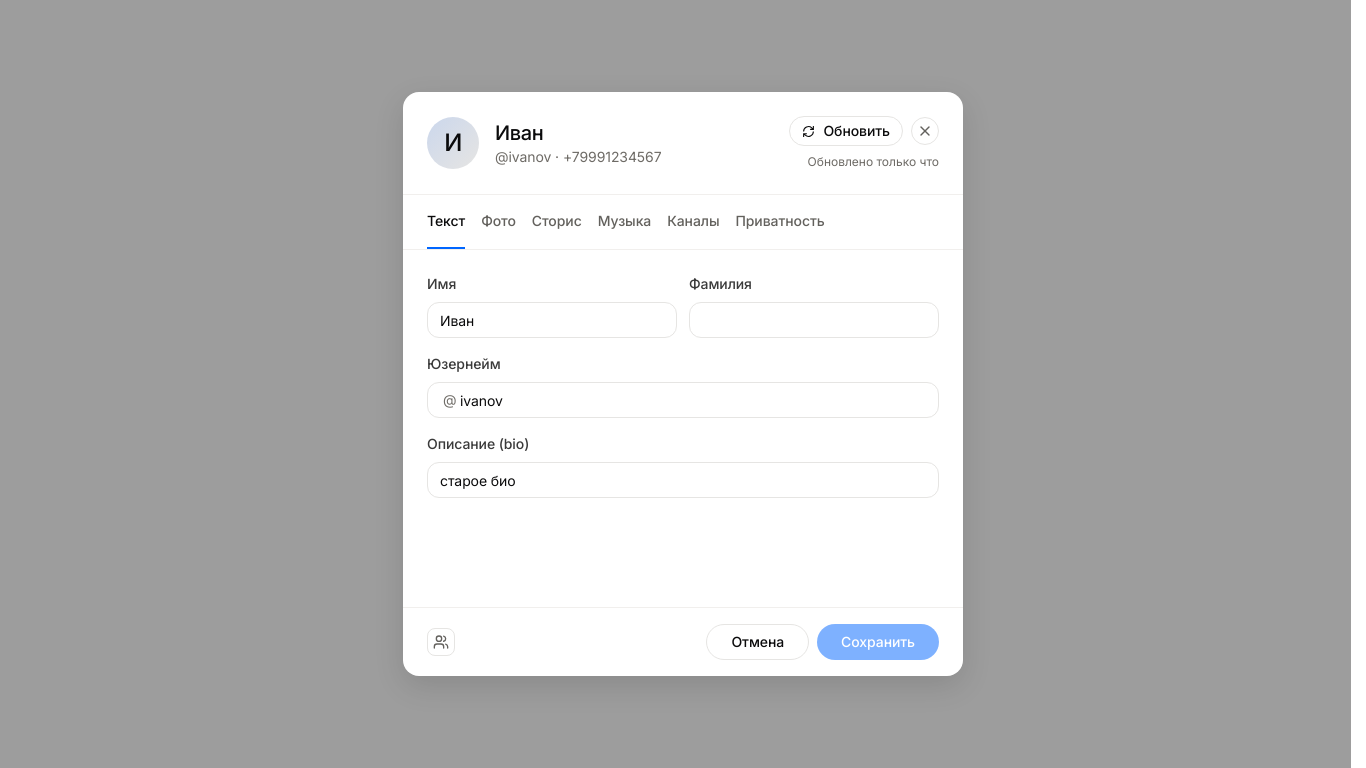
Test: a later pull reporting the new bio clears the warning (replication lag)
Step 1. Replace the text in the text box showing "старое био" with "мой канал @somewhere" → [683, 480], box [427,462,939,498]
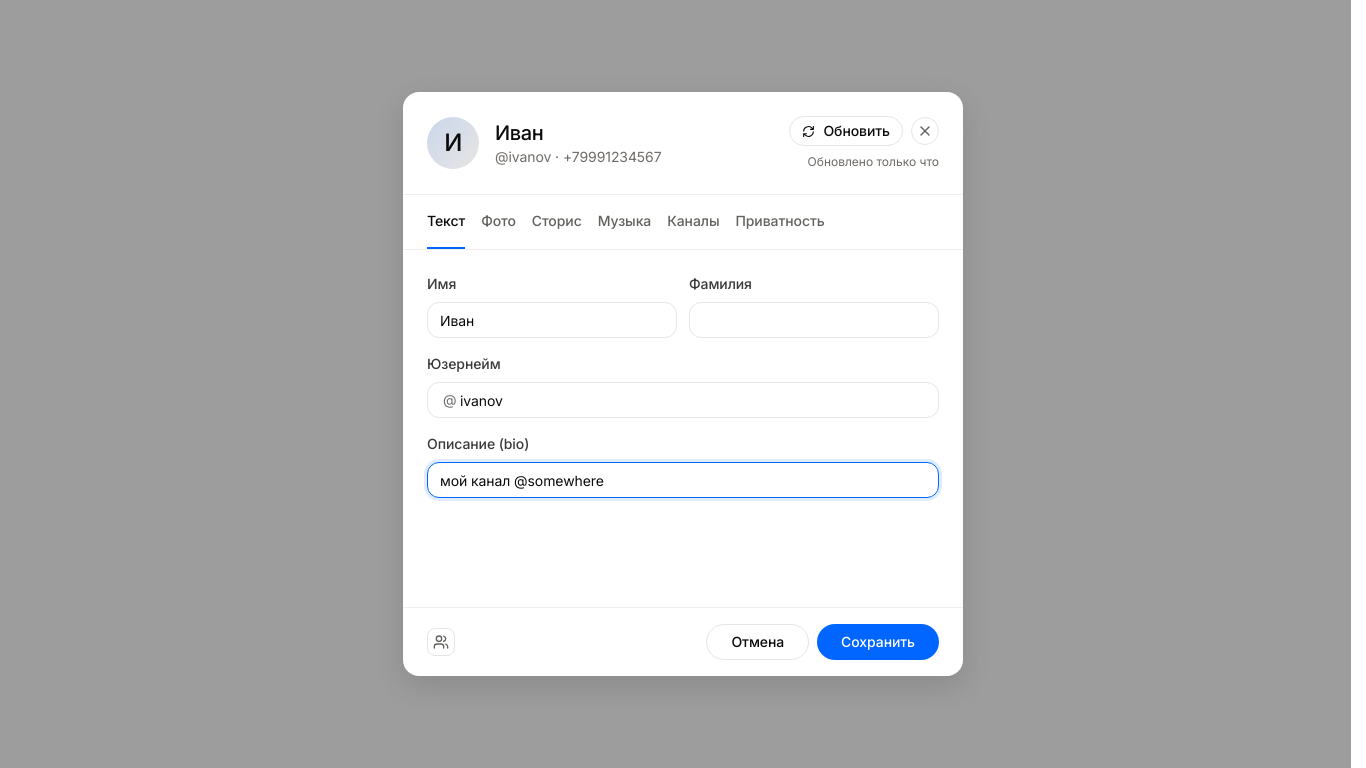
Step 2. Click the button "Сохранить" → [878, 642], box [817,624,939,660]
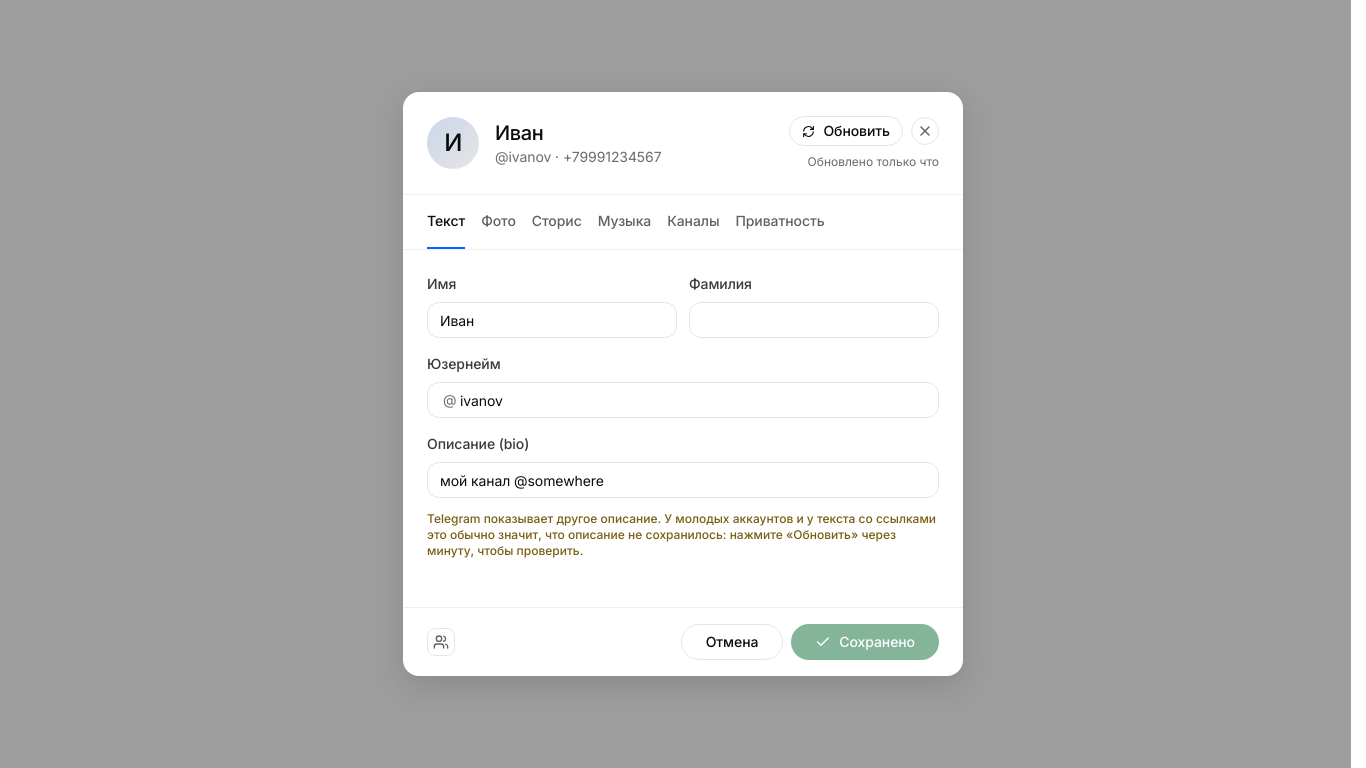
Expected: the message with test id "bio-not-applied" is shown, [427,511,939,559]
Step 3. Click the button "Обновить" → [846, 131], box [789,116,903,146]
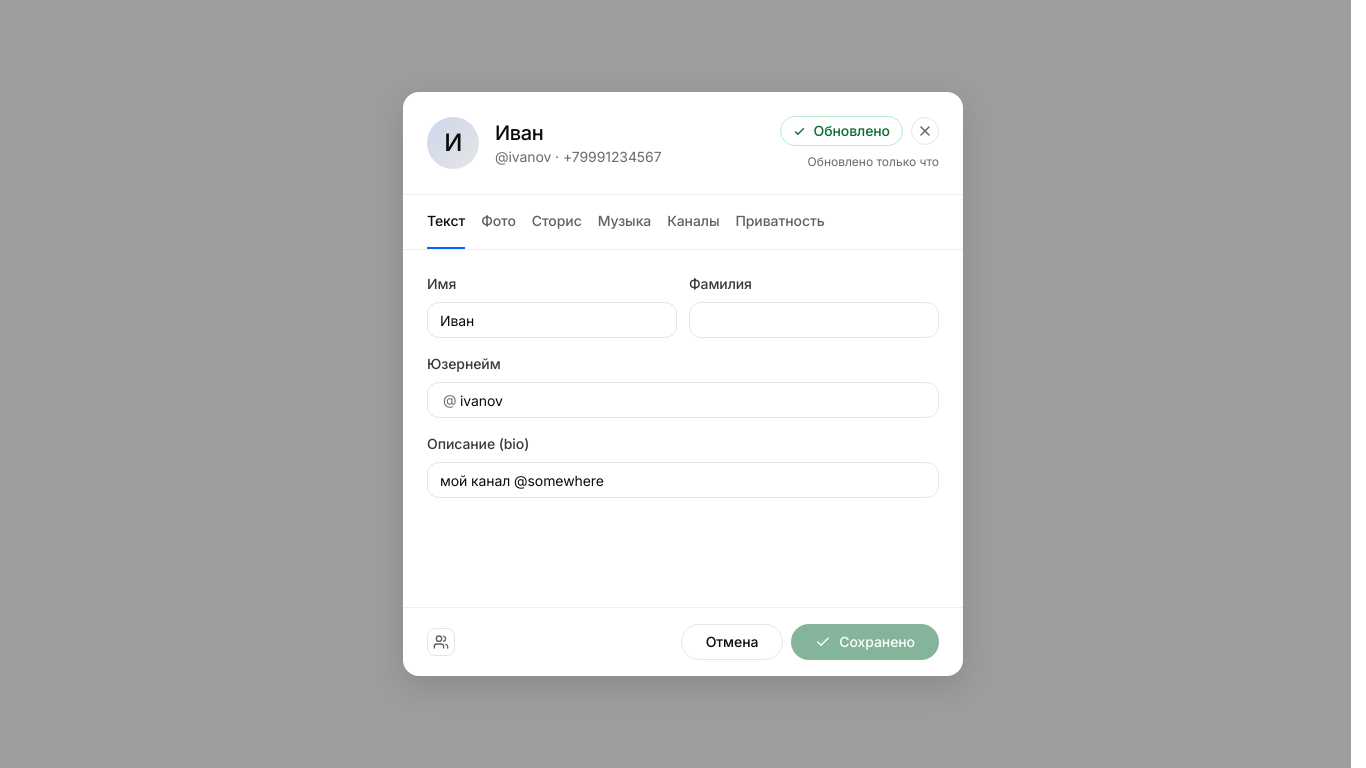
Expected: the message with test id "bio-not-applied" is gone
